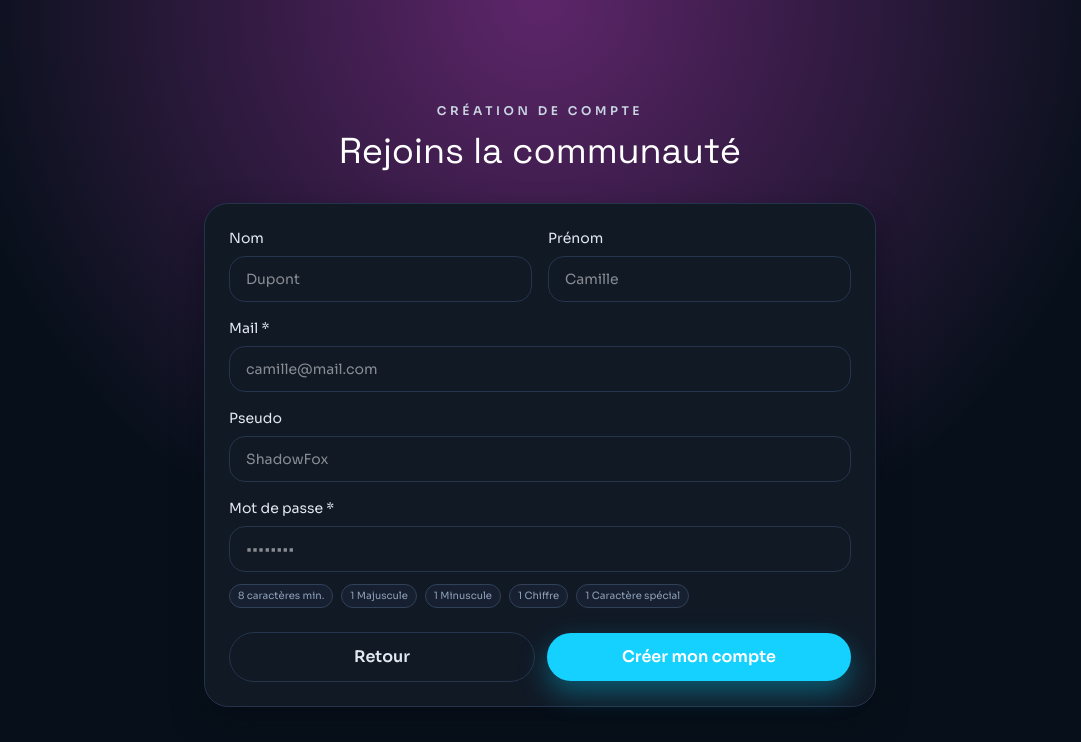
InscriptionPage › shows a fallback error message when registration fails without a string payload
Type "manu@example.com" into the field labelled "Mail *" at (540, 369), box [229,346,851,392]
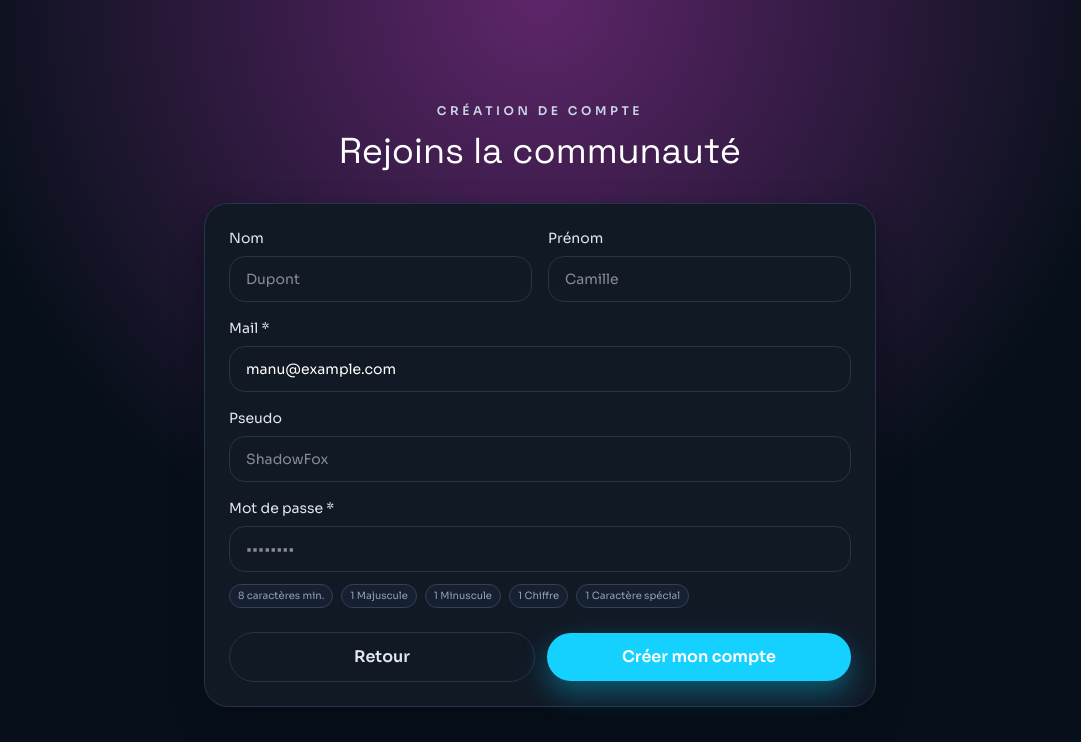
Type "Secret123!" into the password field labelled "Mot de passe" at (540, 549), box [229,526,851,572]
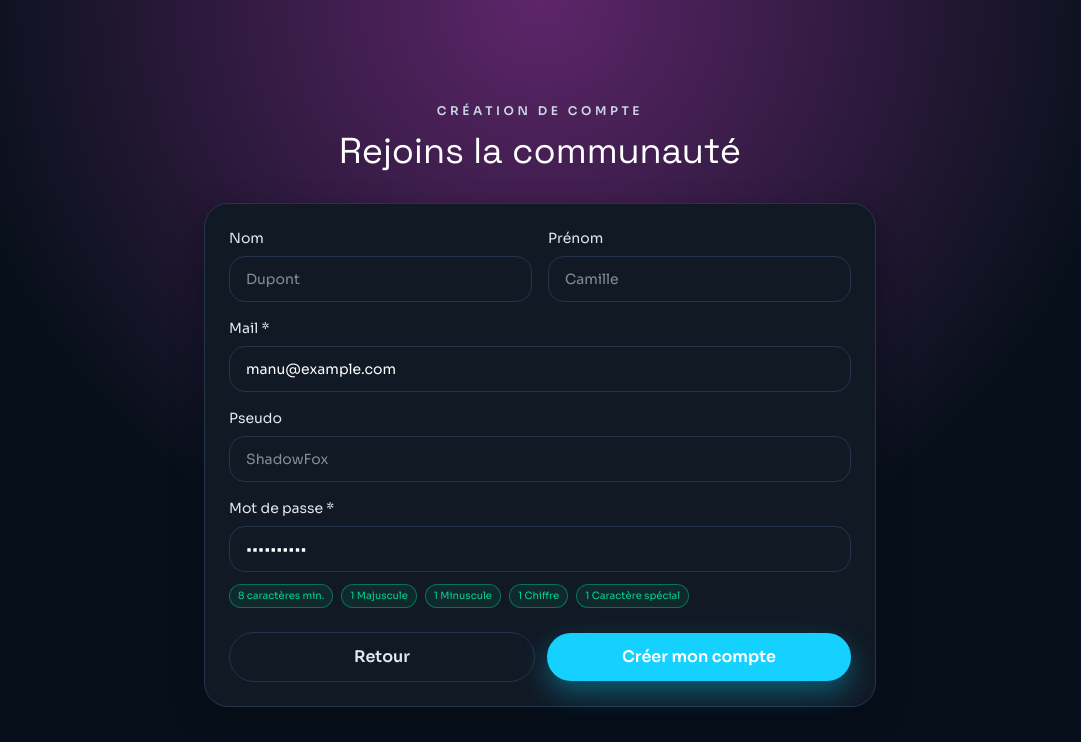
Click the button "Créer mon compte" at (699, 657), box [547,633,851,681]
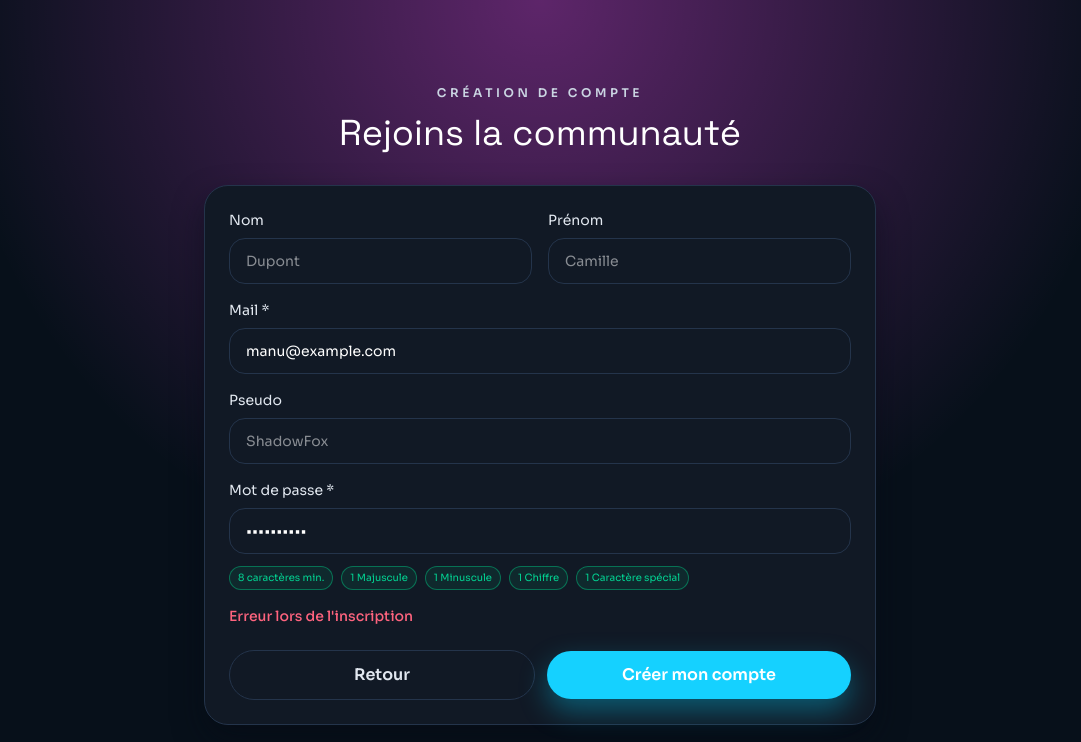
expect the text "Erreur lors de l'inscription" is shown: met, box [229,607,413,625]
